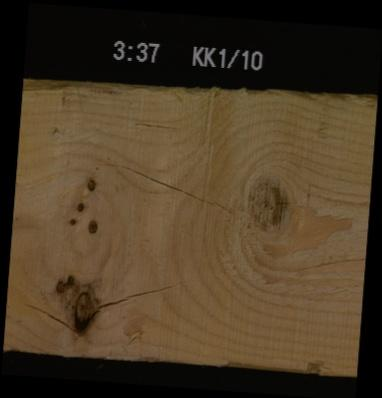dry_knot: (86, 217, 97, 233), (85, 176, 96, 190)
small_knot: (75, 200, 84, 211), (67, 215, 76, 225)
sound_knot: (245, 177, 287, 231)
split: (98, 164, 235, 208), (95, 272, 190, 316), (286, 246, 364, 276), (17, 300, 80, 334), (130, 120, 191, 129)
wave: (22, 79, 154, 101), (221, 349, 328, 369), (123, 347, 187, 361)
